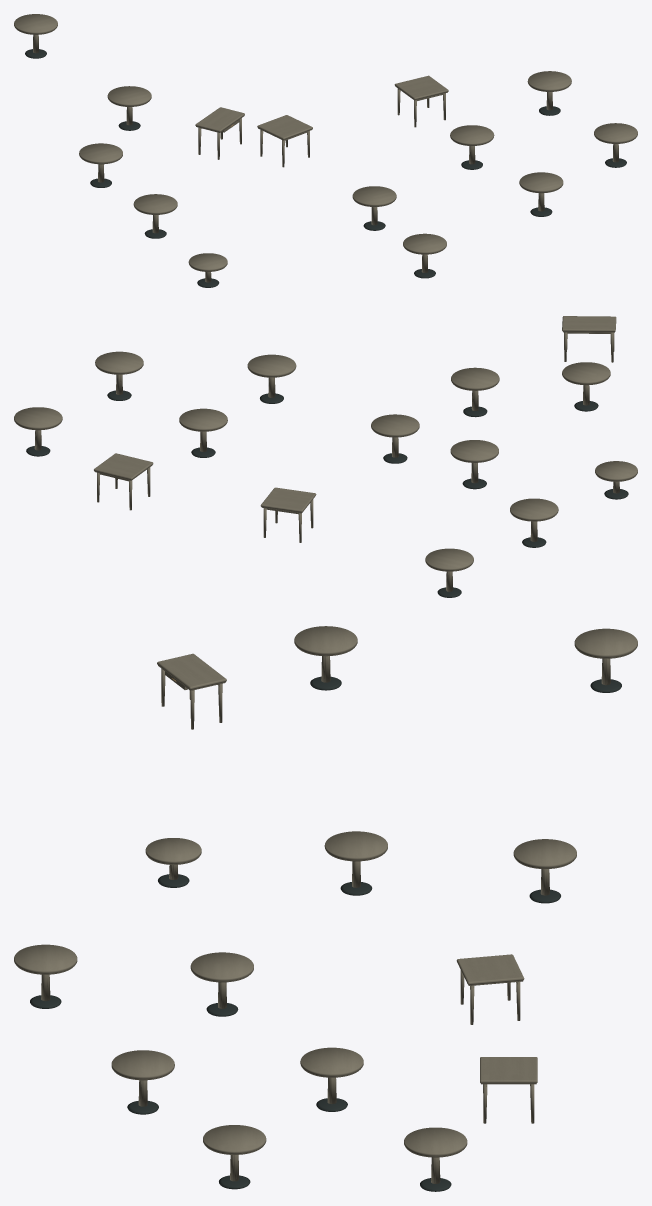
File: atelier_tables_terrace.glb
3 renders of one model, top to bottom at view 1: azimuth 30°, elevation 25°; view 2: azimuth 150°, elevation 25°; view 3: azimuth 270°, elevation 25°, orthographic. The views are drawn at different scales.
Parts seen in each view (by area): view 1: atelier_tables_terrace / Atelier / honey ash, atelier_tables_terrace / Atelier / smoked oak, atelier_tables_terrace / Atelier / charcoal powder coat; view 2: atelier_tables_terrace / Atelier / honey ash, atelier_tables_terrace / Atelier / smoked oak, atelier_tables_terrace / Atelier / charcoal powder coat; view 3: atelier_tables_terrace / Atelier / honey ash, atelier_tables_terrace / Atelier / smoked oak, atelier_tables_terrace / Atelier / charcoal powder coat.
Part boxes in pixels (left/top/right/bottom): atelier_tables_terrace / Atelier / honey ash: left=14, top=14, right=637, bottom=271; atelier_tables_terrace / Atelier / smoked oak: left=33, top=34, right=619, bottom=282; atelier_tables_terrace / Atelier / charcoal powder coat: left=25, top=49, right=626, bottom=287; atelier_tables_terrace / Atelier / honey ash: left=14, top=316, right=637, bottom=570; atelier_tables_terrace / Atelier / smoked oak: left=34, top=332, right=619, bottom=591; atelier_tables_terrace / Atelier / charcoal powder coat: left=26, top=390, right=628, bottom=597; atelier_tables_terrace / Atelier / honey ash: left=14, top=626, right=637, bottom=1156; atelier_tables_terrace / Atelier / smoked oak: left=41, top=656, right=610, bottom=1183; atelier_tables_terrace / Atelier / charcoal powder coat: left=30, top=676, right=621, bottom=1191.
Bounding box in the file's own units: 13.54 × 4.06 × 10.24.
Materials: 3 (1 with a texture image).
